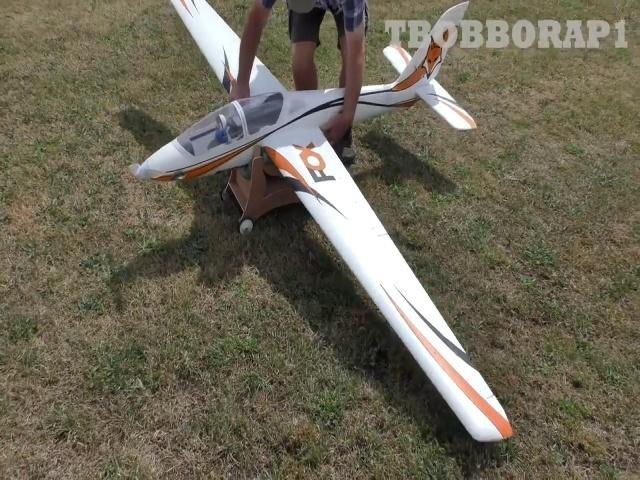Airplane: (129, 1, 513, 441)
